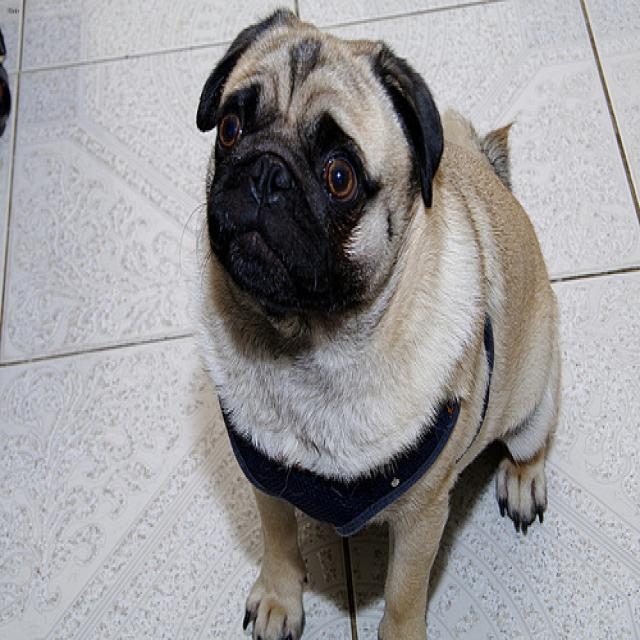dog-pug: (186, 2, 575, 636)
